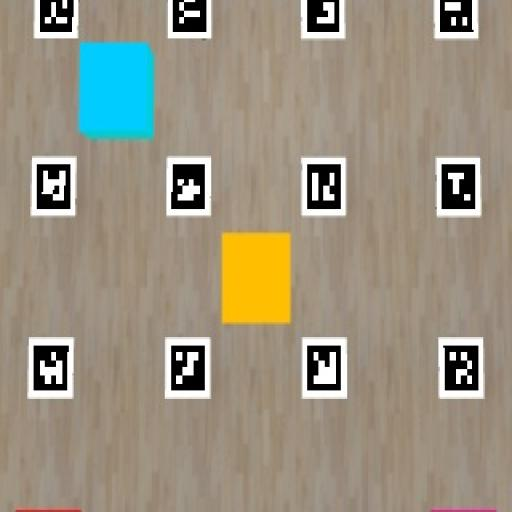car: (79, 43, 155, 140)
fire: (221, 233, 291, 324), (16, 508, 81, 511)
